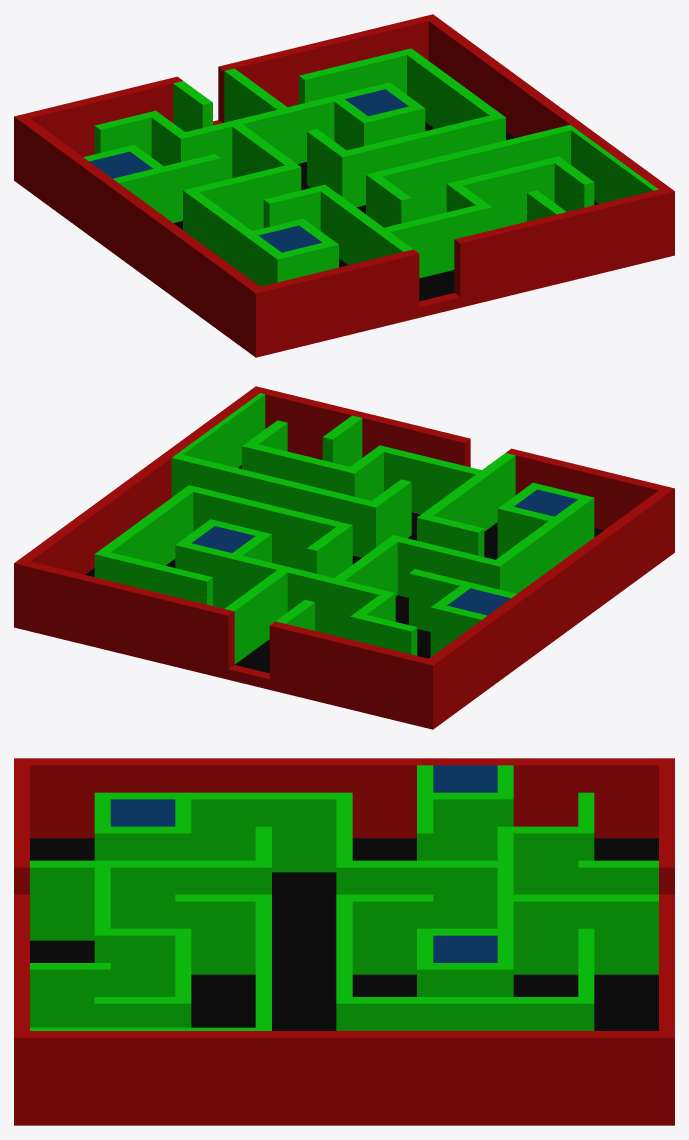
File: labyrinth.obj
The picture shows the model from 3 angles, top to bottom: view 1: azimuth 30°, elevation 25°; view 2: azimuth 150°, elevation 25°; view 3: azimuth 270°, elevation 25°; orthographic projection. The views are drawn at different scales.
Size of the model in its own units: 16.4 by 2.4 by 16.4.
1 material, 1 textured.
